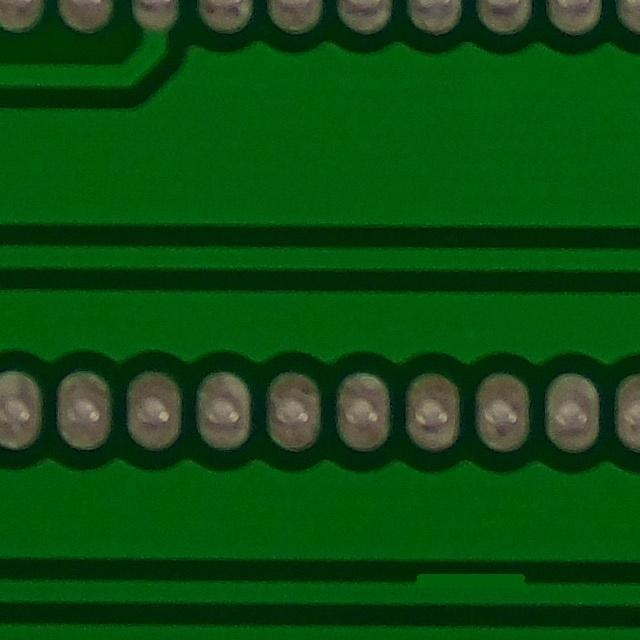spur: (395, 561, 533, 616)
